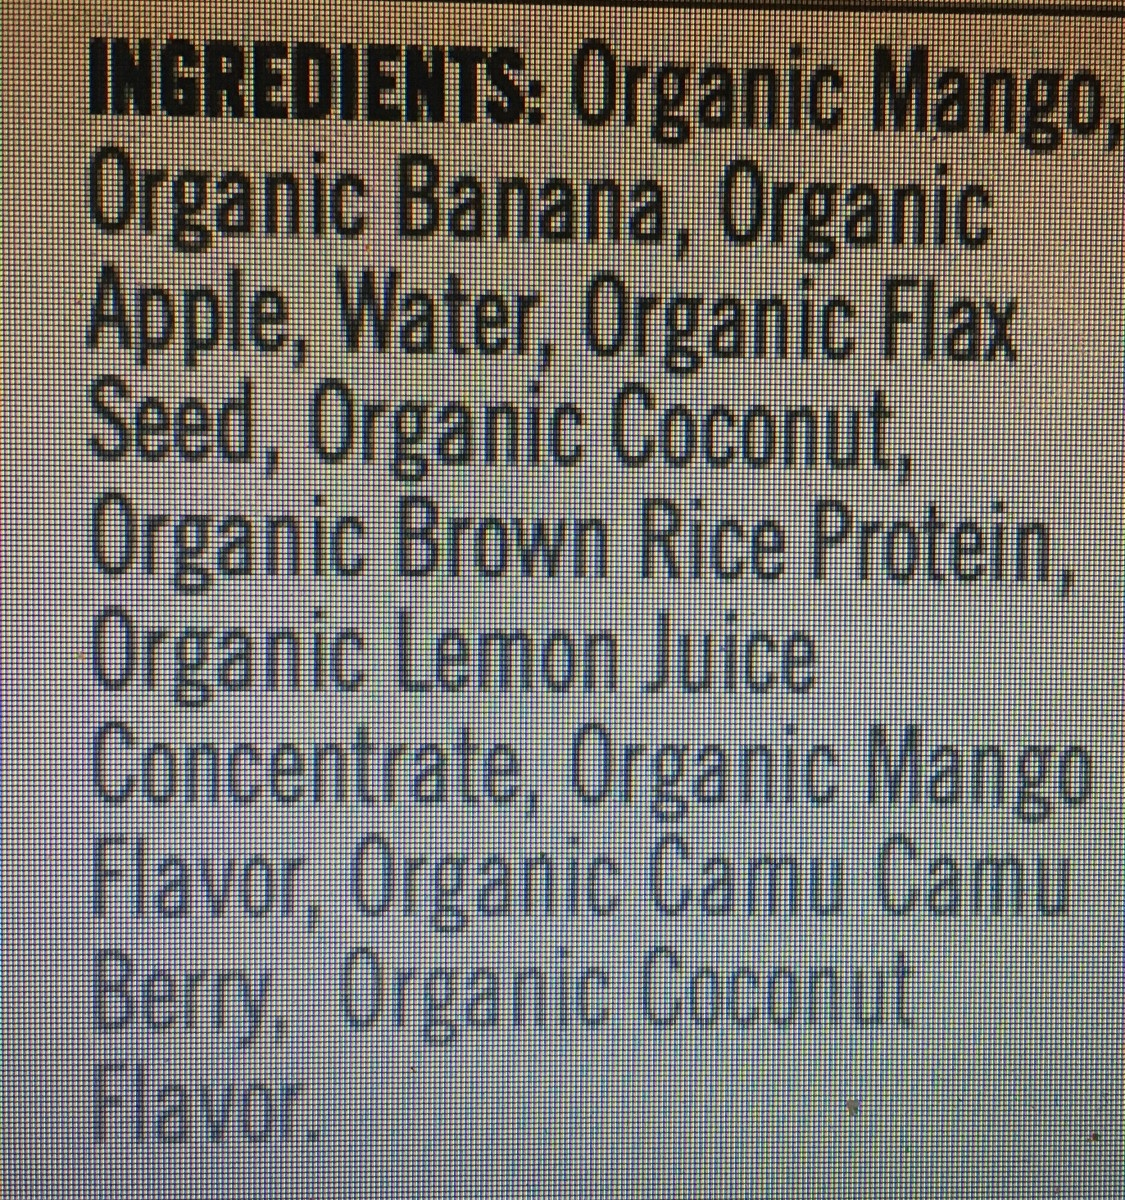ingredients: (55, 12, 1111, 1162)
